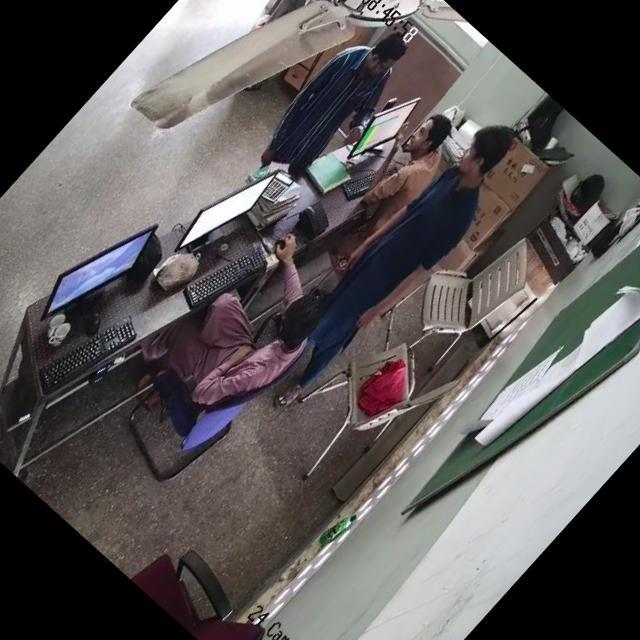person: (245, 116, 527, 419), (162, 247, 344, 433), (252, 18, 412, 187), (340, 110, 471, 248)
